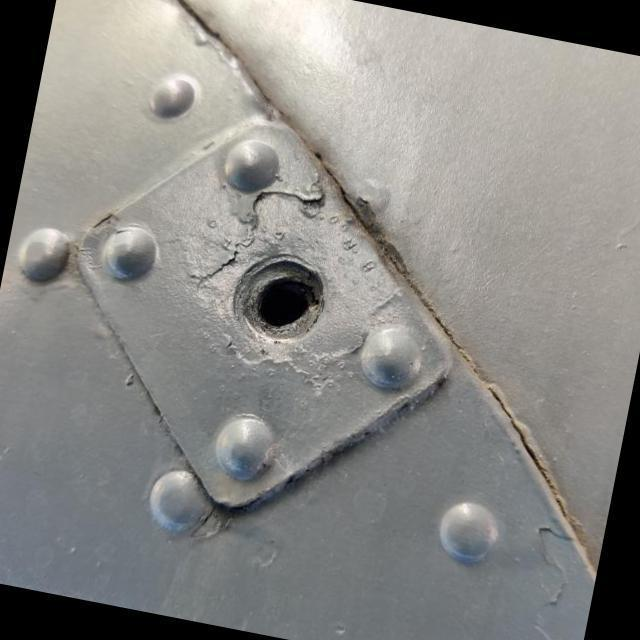Fastener Damage: (186, 210, 374, 397)
